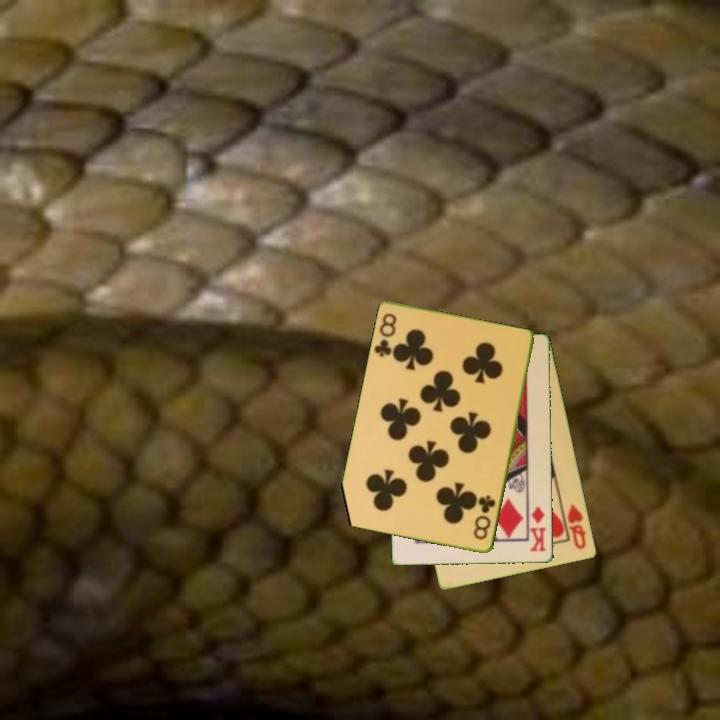8c: (470, 492, 499, 543), (371, 310, 400, 360)
Kd: (527, 503, 549, 554)
Qh: (564, 501, 589, 552)
